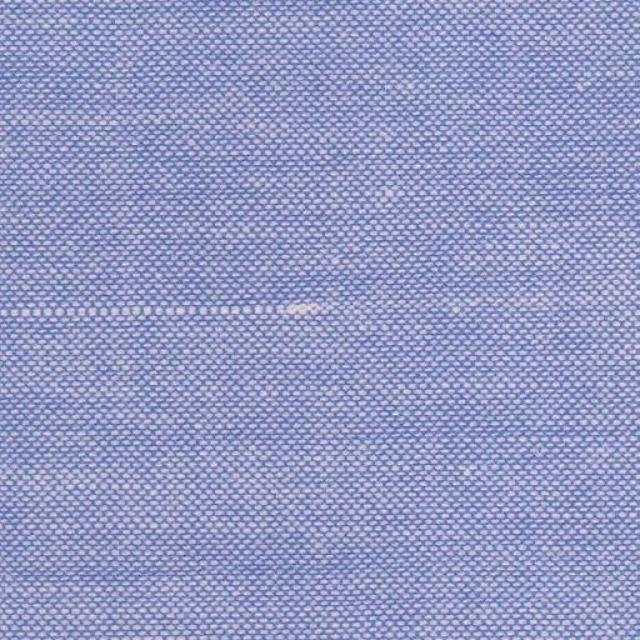pulled_or_thick_thread: (0, 298, 335, 324)
